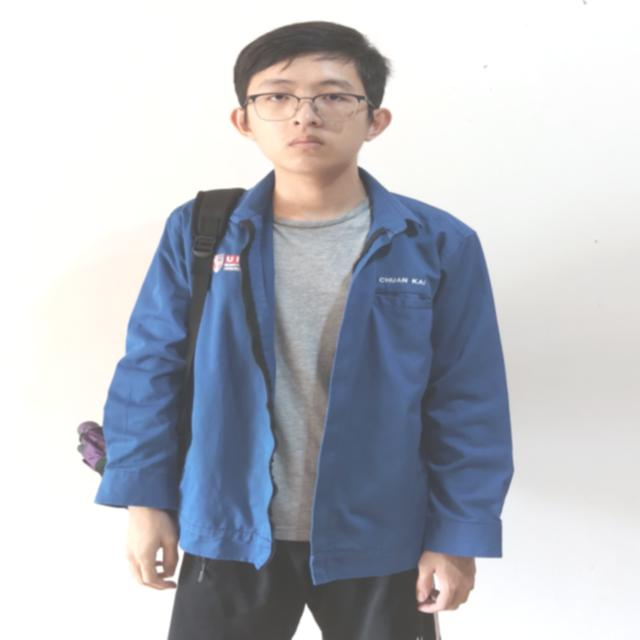person_with_labcoat: (79, 22, 513, 640)
